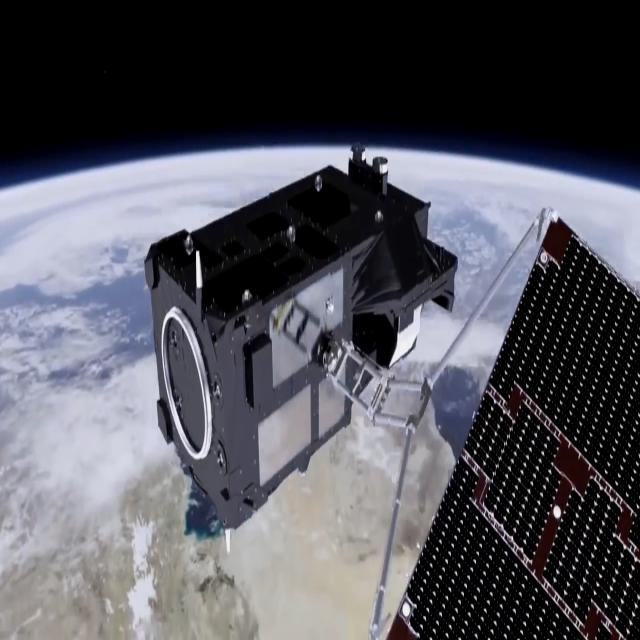satellite: (128, 113, 640, 640)
